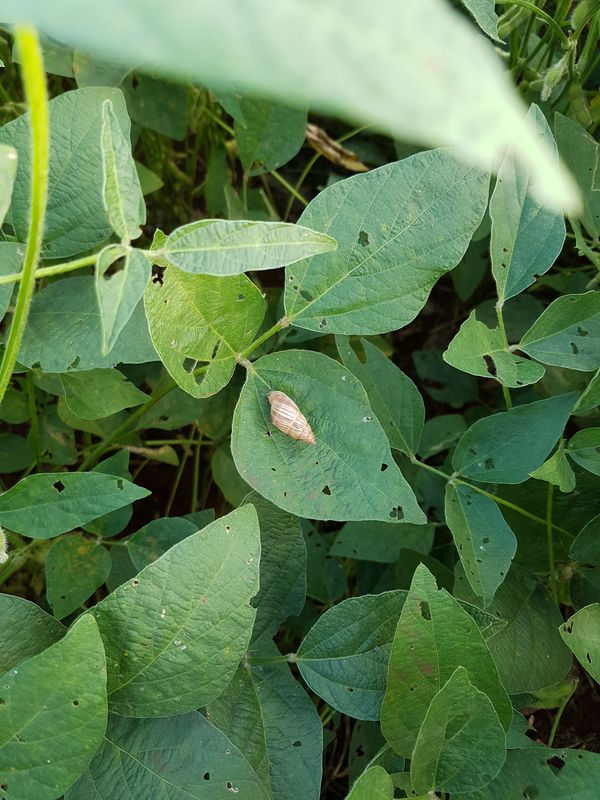Gastropoda: (252, 383, 331, 458)
